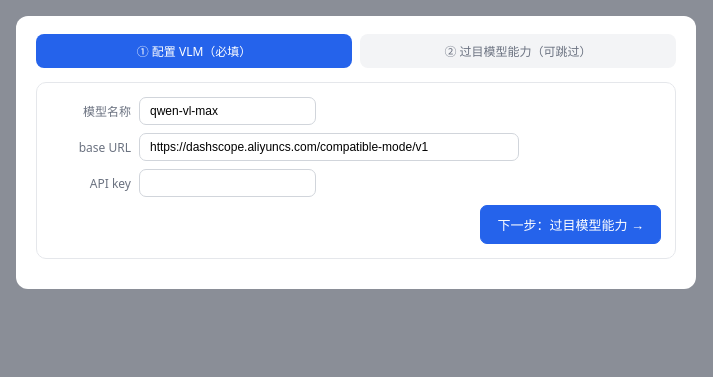
Test: Wizard (G1 UI) › step1 → step2: vlm-set receives model/base_url/api_key; step2 lists scanned rows
In the password field: (228, 183) [139,169,316,197], type "sk-wiz"
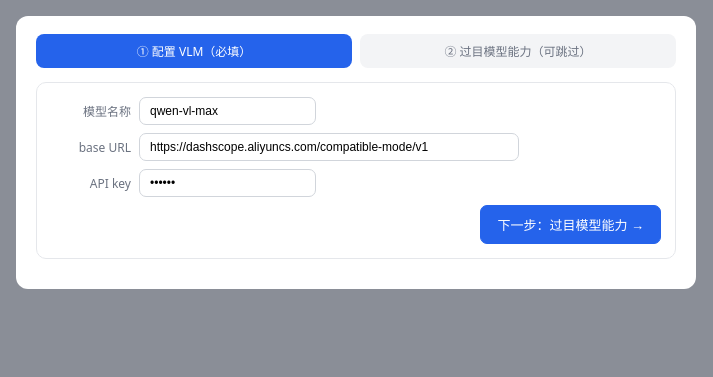
Click the button "下一步：过目模型能力 →": (571, 224) [480,205,661,244]
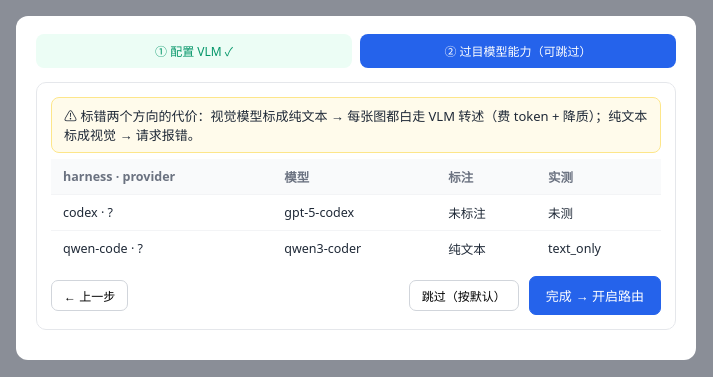
Now the text "gpt-5-codex" is shown, box [272,194,436,230]
Now the text "qwen3-coder" is shown, box [272,230,436,266]
Now the text "未标注" is shown, box [436,194,536,230]
